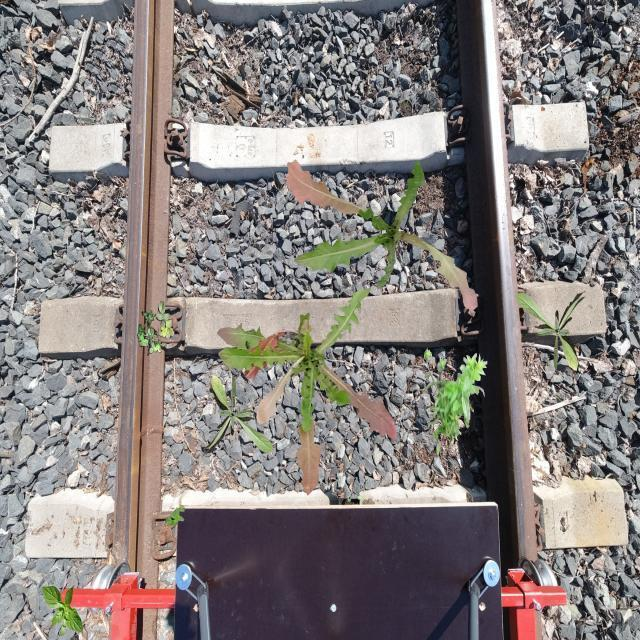Plant: (217, 288, 397, 497), (285, 159, 478, 311), (423, 348, 488, 456), (202, 374, 274, 455), (516, 291, 588, 372), (42, 584, 84, 638), (137, 301, 174, 356), (166, 504, 186, 528)
